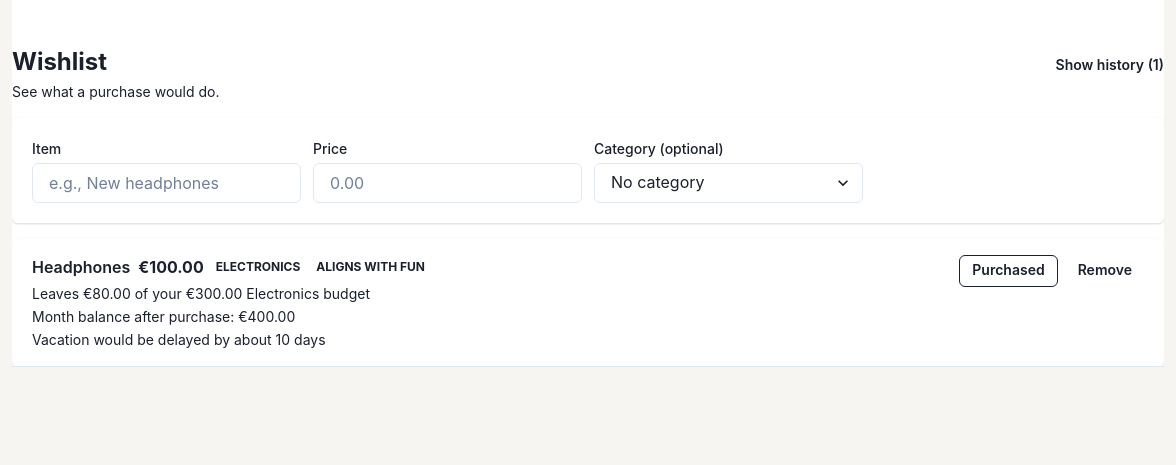
Test: WishlistSection › shows the history toggle when purchased/removed items exist
Check: the text "Old thing" is not shown
Click the button "Show history (1)".
click(1110, 64)  # box top-left (1056, 56), bottom-right (1164, 73)
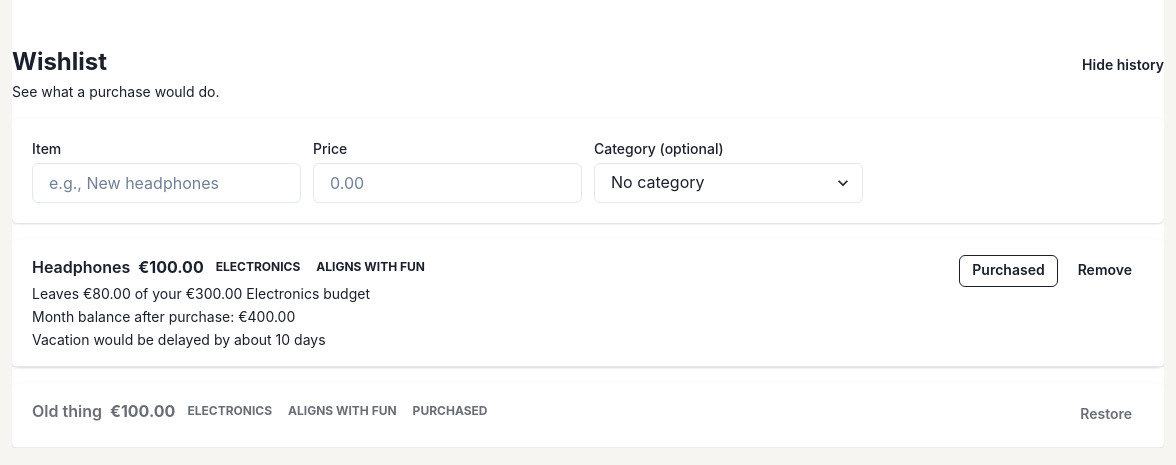
Check: the text "Old thing" is shown, box top-left (32, 399), bottom-right (102, 423)
